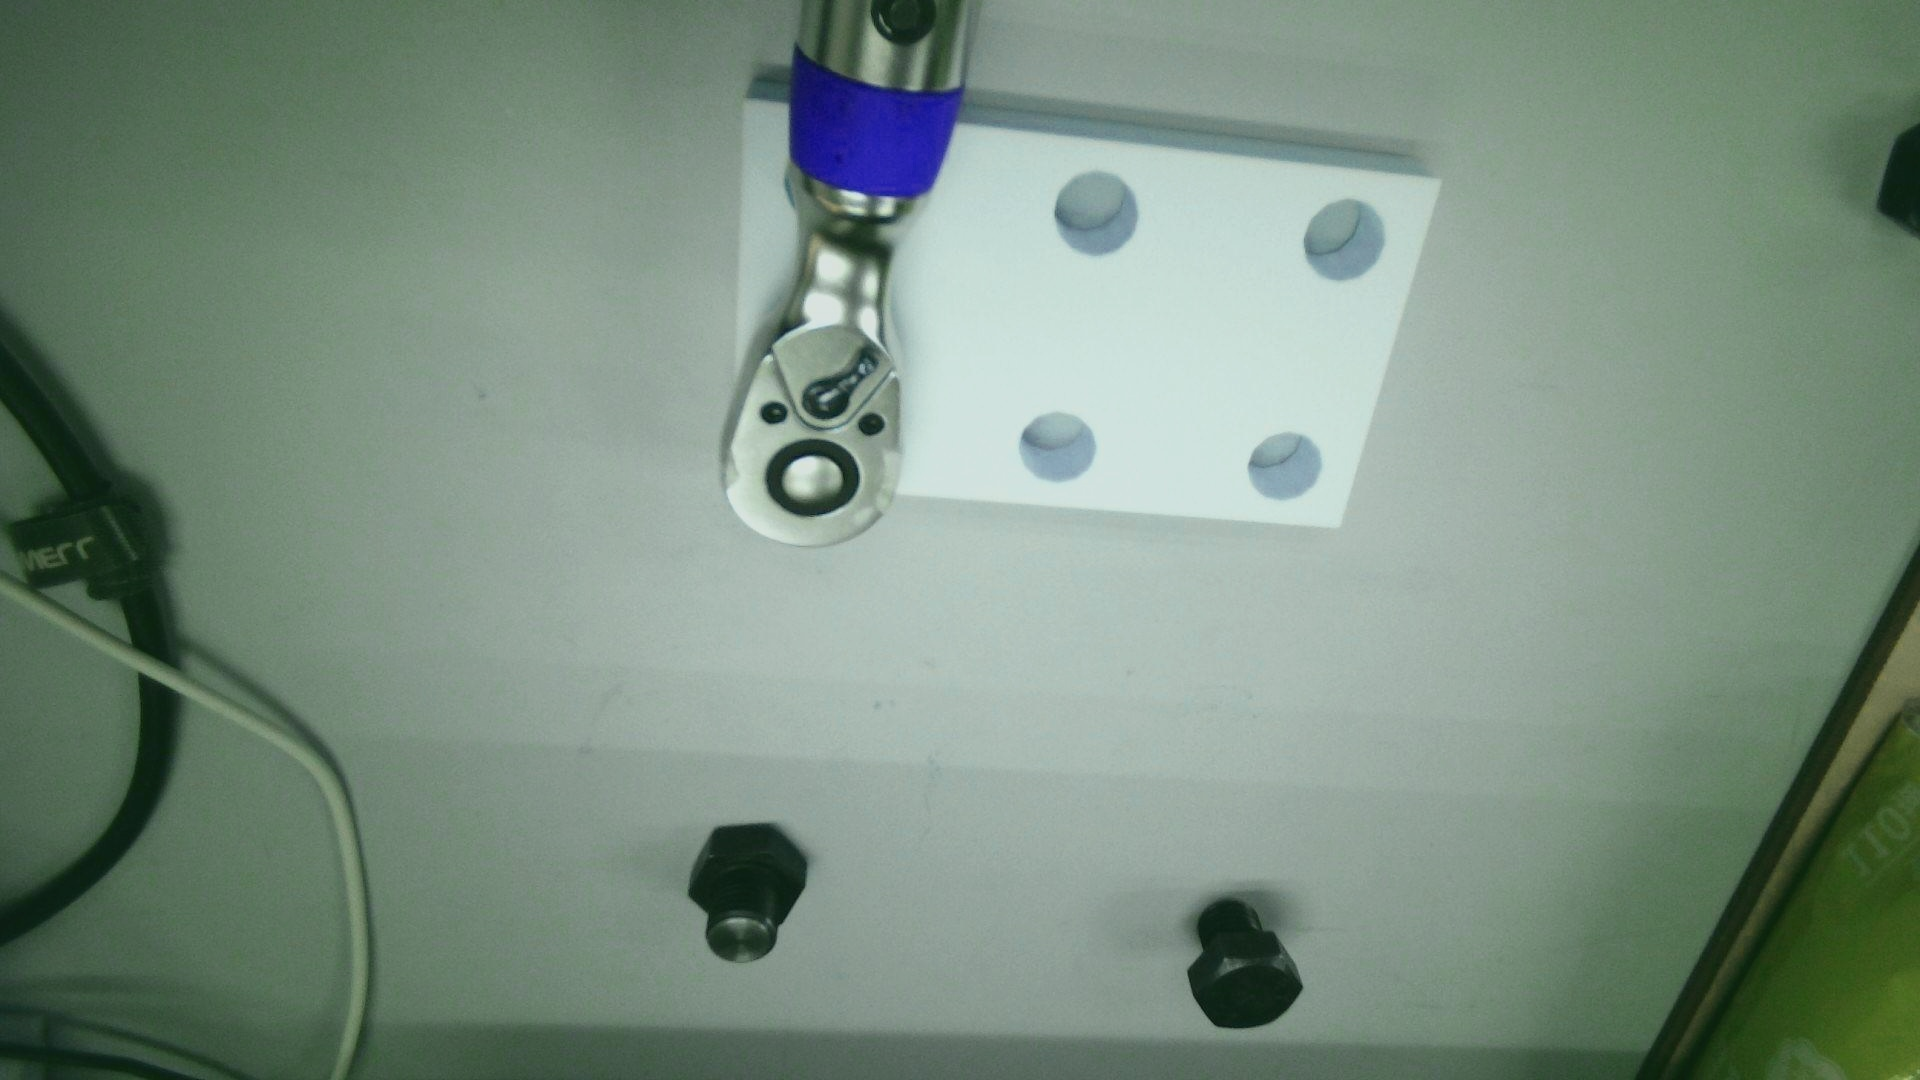hole: (1055, 171, 1139, 255), (1304, 196, 1385, 281), (1017, 411, 1098, 484), (1246, 430, 1323, 498)
obj: (733, 74, 1447, 527)
wrench: (764, 438, 861, 517)
